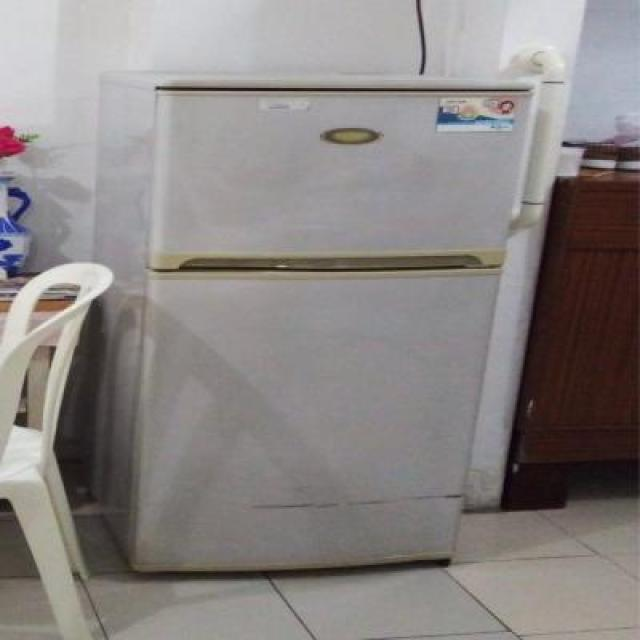refrigerator: (122, 76, 544, 580)
